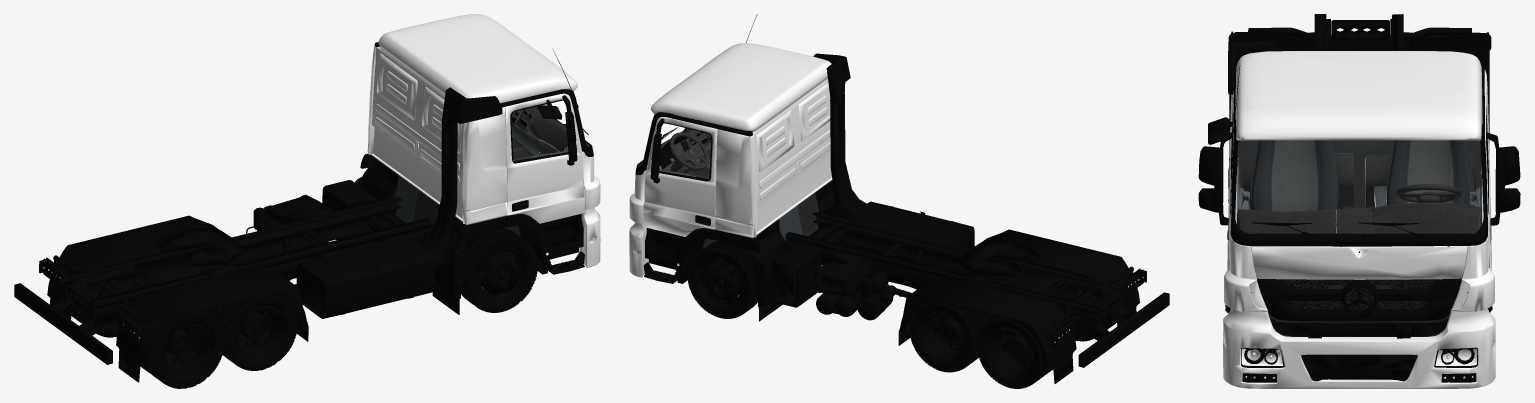
The model's file is vehicle_truck_european_hgv.glb.
3 views of the same model, side by side, from view 1: azimuth 30°, elevation 25°; view 2: azimuth 150°, elevation 25°; view 3: azimuth 270°, elevation 25° (orthographic). The views are drawn at different scales.
Parts seen in each view (by area): view 1: body; view 2: body; view 3: body.
Part boxes in pixels (x1,y1,x2,y2): body: (14, 14, 600, 388); body: (629, 14, 1169, 388); body: (1198, 14, 1520, 388).
Bounding box in the file's own units: 7.92 × 3.78 × 3.38.
5 materials, 3 textured.
